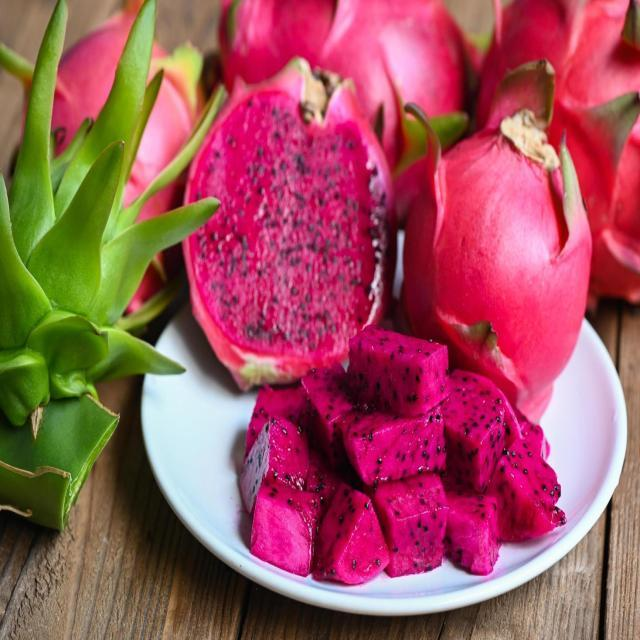dragon-fruit: (238, 324, 567, 586), (180, 79, 400, 386), (216, 0, 473, 229), (20, 22, 207, 314), (401, 131, 595, 404), (474, 0, 640, 300)
